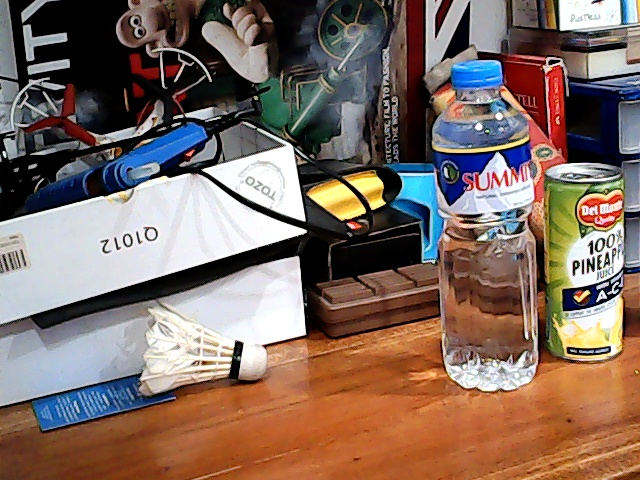Pine Juice: (538, 158, 634, 374)
Summit Water: (433, 60, 545, 392)
